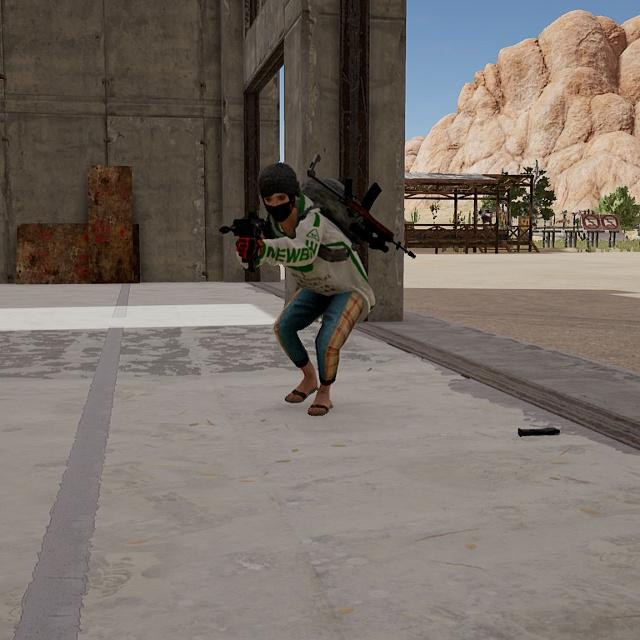head: (254, 157, 305, 224)
people: (230, 150, 384, 427)
